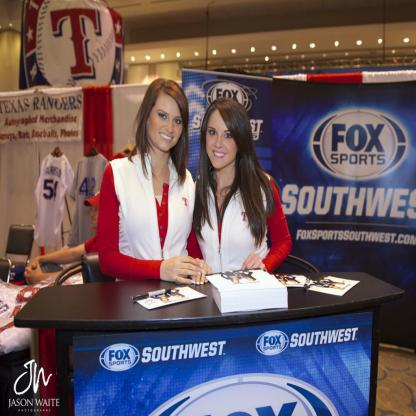face: (150, 93, 186, 153), (204, 112, 241, 170)
